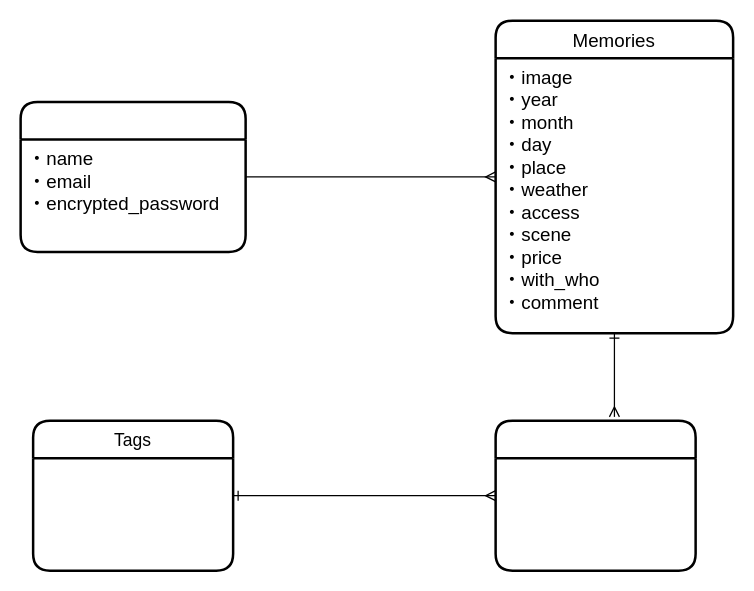
Image size: 754x591. Some labels were removed from this diagram. Each missing label, with the box of its shape:
Memory_Tag_relations: (494, 419, 696, 571)
Users: (19, 100, 246, 252)
